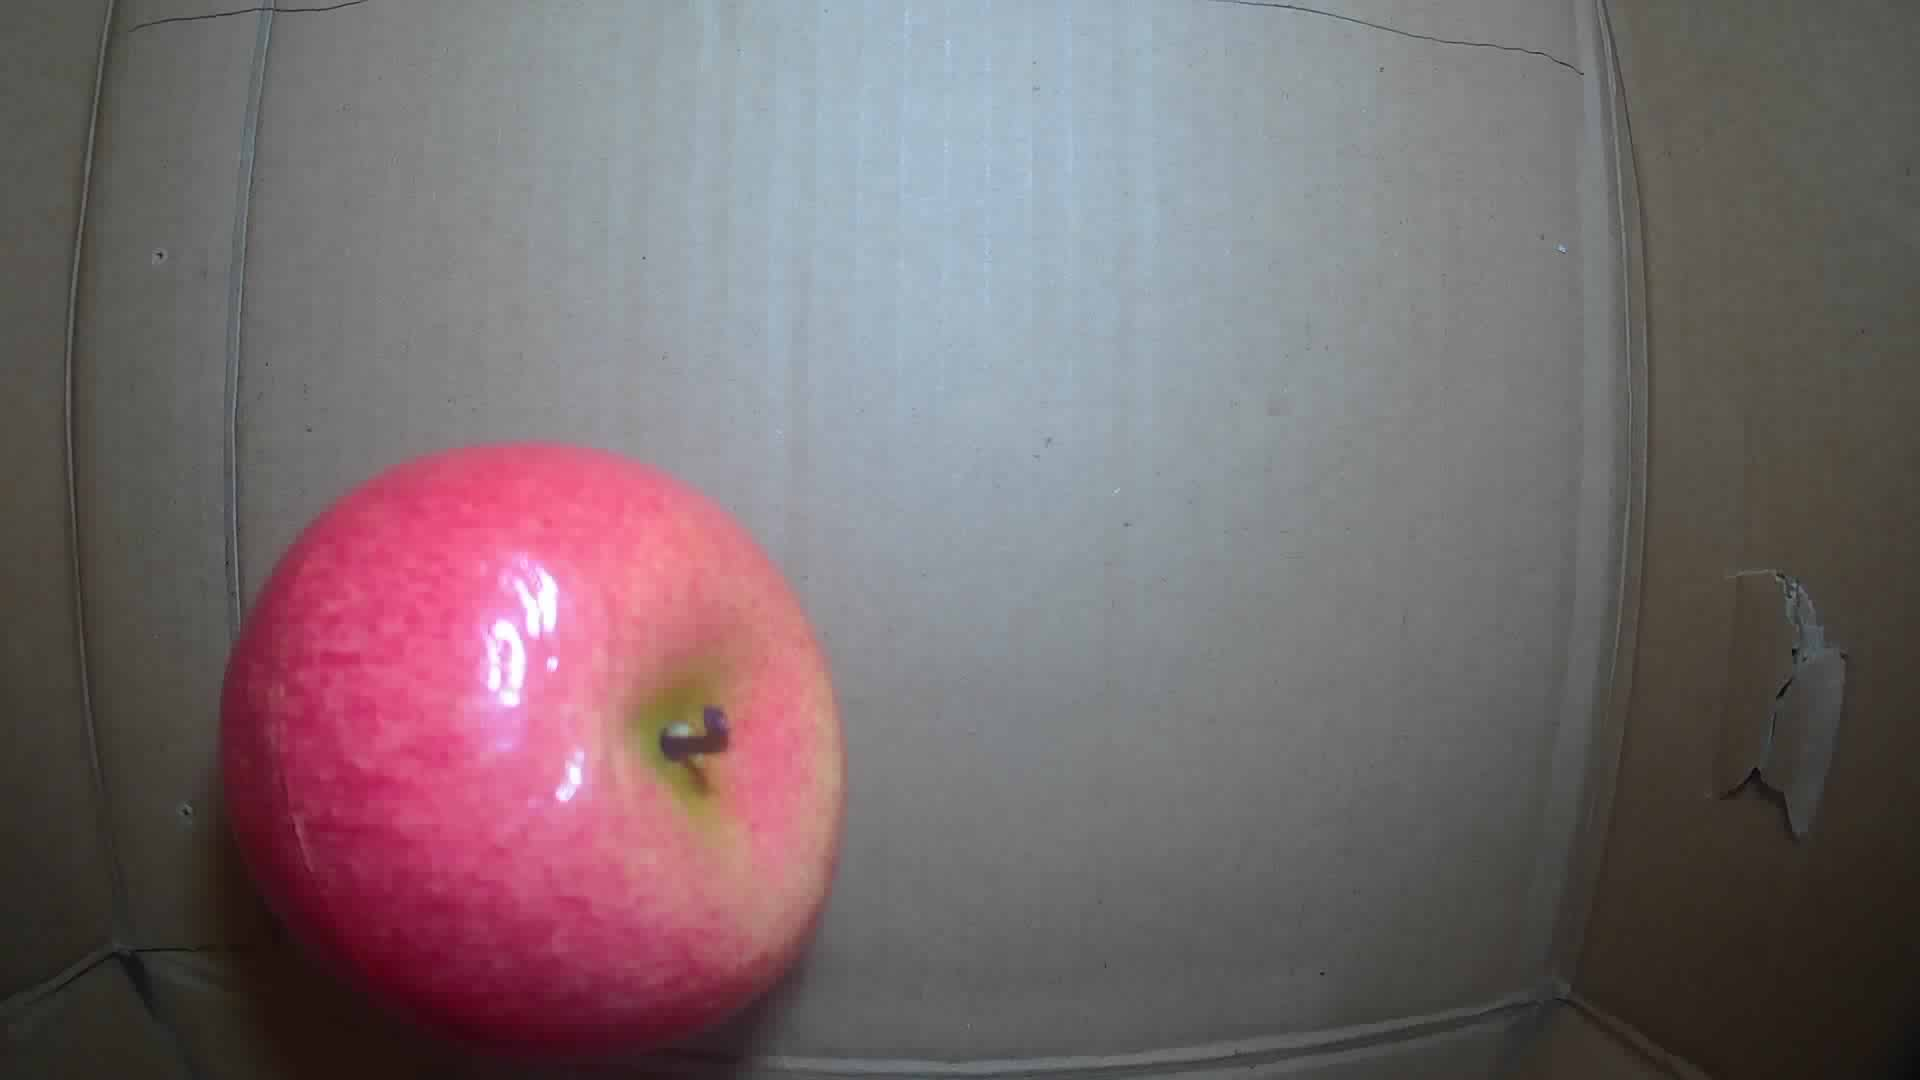apple: (220, 443, 848, 1069)
